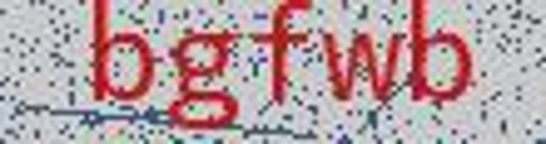b: (81, 2, 157, 106), (404, 2, 477, 108)
f: (248, 1, 315, 109)
g: (164, 19, 241, 137)
w: (319, 24, 406, 110)
